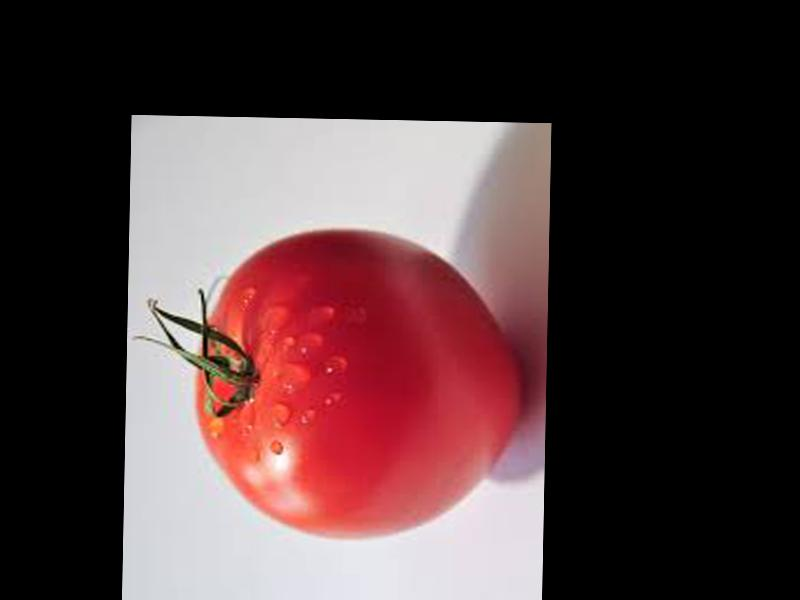Tomato: (197, 228, 524, 542)
